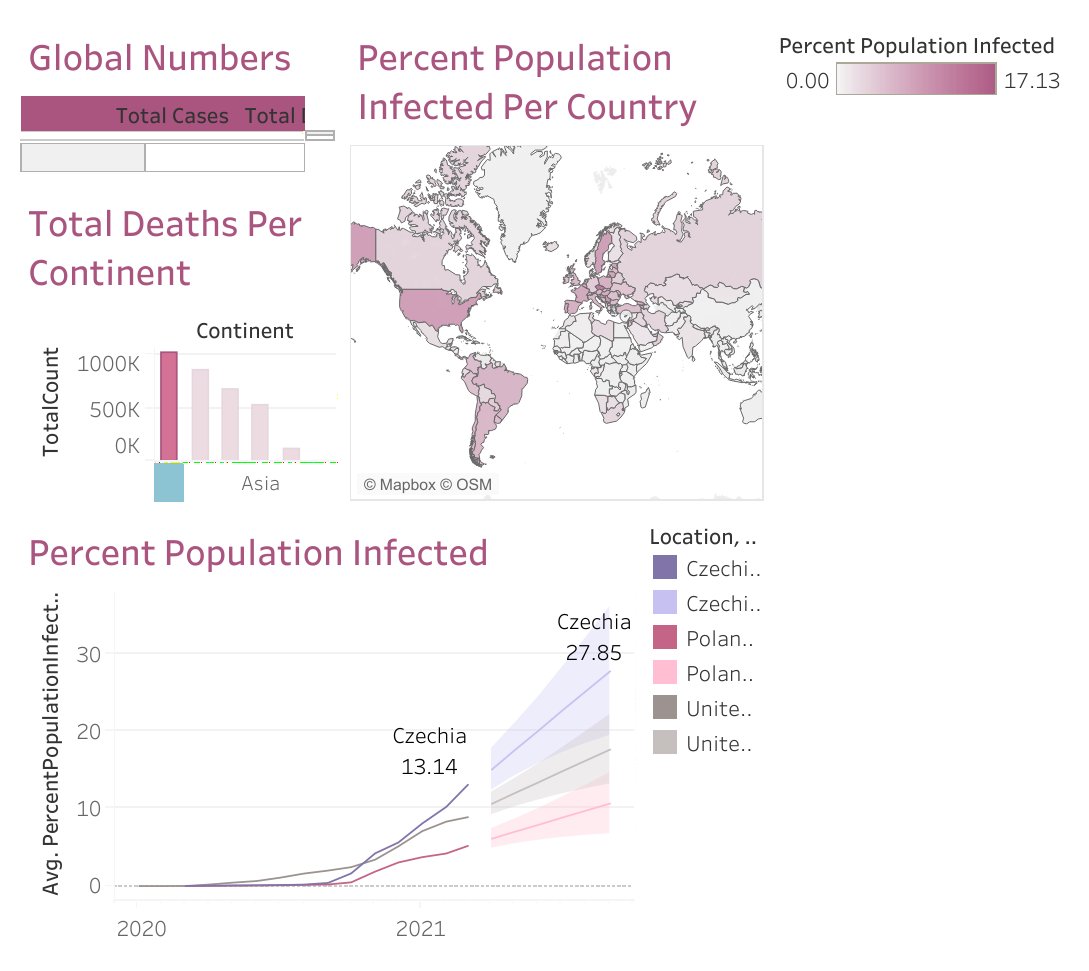

The dashboard page shown, as its layout file describes it:
{"tool":"tableau","page":{"name":"Dashboard 1","canvas":[1000,1000],"units":"permille","ordinal":0},"visuals":[{"type":"worksheet","title":"Sheet 1","mark":"Automatic","box":[7.2,14.7,359.8,171]},{"type":"worksheet","title":"Sheet 3","mark":"Automatic","box":[367,14.7,468.9,509.2]},{"type":"legend","title":"Sheet 3","param":"[federated.0q7y6zx0woq8g81a5fn8b1tgiasy].[sum:PercentPopulationInfected:qk]","box":[835.9,14.7,156.9,119.5]},{"type":"worksheet","title":"Sheet 2","mark":"Bar","rows":["TotalDeathCount"],"cols":["location"],"box":[7.2,185.7,359.8,338.2]},{"type":"worksheet","title":"Sheet 5","mark":"Automatic","rows":["PercentPopulationInfected"],"cols":["FormattedDate"],"box":[7.2,523.9,684.4,461.4]},{"type":"legend","title":"Sheet 5","param":"[federated.1ahpspw0wpcppm12f68551jo64ss].[none:Location:nk]\n[federated.1ahpspw0w","box":[691.6,523.9,144.3,461.4]}]}

Visuals, with their boxes on the dashboard's canvas, which has no fixed pixel size, in thousandths of its width and height (x1, y1, x2, y2). These are canvas units, not pixel positions in the 1089x971 screenshot, which may show the page scaled, cropped or inside an application window:
"Sheet 1" worksheet: [x1=7, y1=15, x2=367, y2=186]
"Sheet 3" worksheet: [x1=367, y1=15, x2=836, y2=524]
"Sheet 3" legend: [x1=836, y1=15, x2=993, y2=134]
"Sheet 2" worksheet (Bar marks): [x1=7, y1=186, x2=367, y2=524]
"Sheet 5" worksheet: [x1=7, y1=524, x2=692, y2=985]
"Sheet 5" legend: [x1=692, y1=524, x2=836, y2=985]
